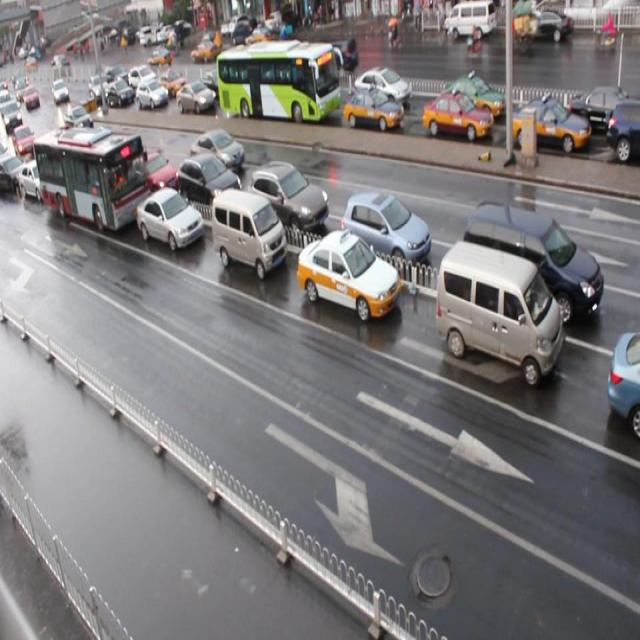car: (298, 228, 402, 322), (341, 192, 432, 276), (249, 161, 330, 234), (512, 98, 592, 156), (137, 186, 204, 250), (564, 85, 640, 138), (178, 152, 244, 212), (608, 328, 640, 433), (424, 92, 494, 140), (436, 73, 505, 121), (344, 84, 404, 133), (354, 65, 410, 109), (189, 130, 244, 174), (136, 146, 180, 195), (606, 97, 640, 159), (20, 158, 58, 202), (84, 132, 122, 171), (287, 67, 329, 102), (176, 82, 216, 115), (1, 152, 30, 194), (200, 71, 233, 104), (136, 80, 169, 108), (128, 64, 158, 92), (105, 78, 134, 106), (64, 106, 94, 131), (160, 70, 188, 96)
truck: (437, 240, 562, 388), (464, 198, 604, 328), (212, 188, 288, 278)
van: (35, 126, 154, 234), (216, 44, 340, 123)
